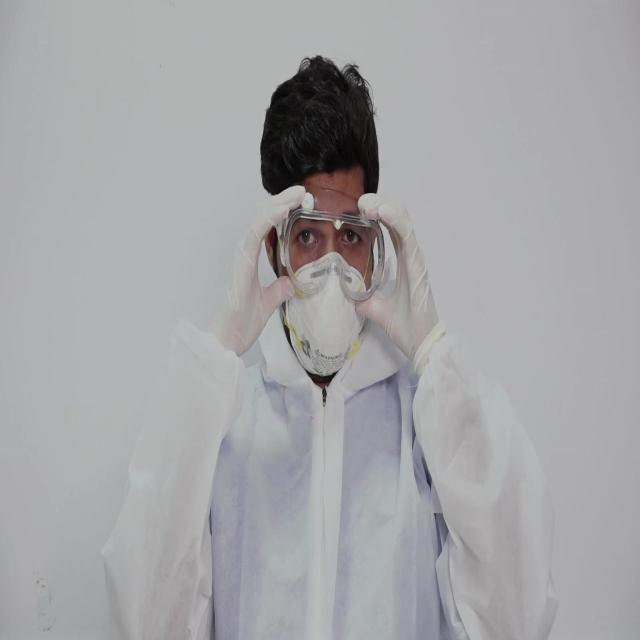Coverall: (102, 313, 560, 638)
Gloves: (208, 183, 306, 356), (356, 191, 439, 362)
Goggles: (279, 185, 385, 305)
Mask: (286, 251, 367, 377)
